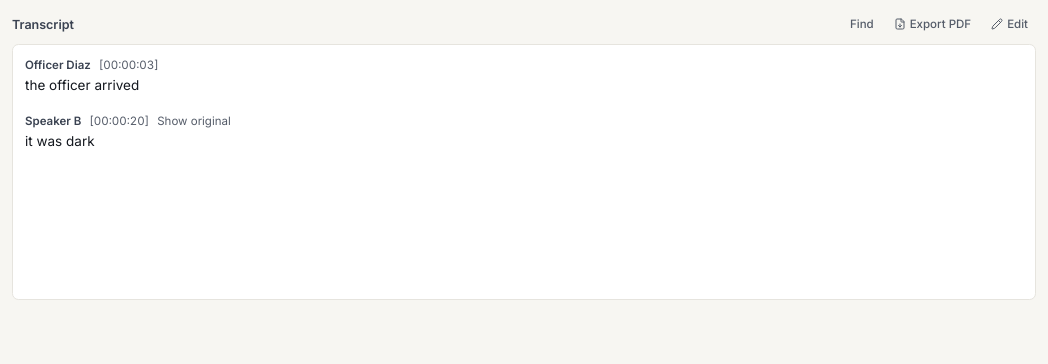
Test case: paragraph editor › a conflict refreshes and shows their version, keeping the typed text
The width and height of the screenshot is (1048, 364).
Step 1. Click the button with aria-label "Edit transcript" → coordinates (1010, 24), box [983,12,1036,36]
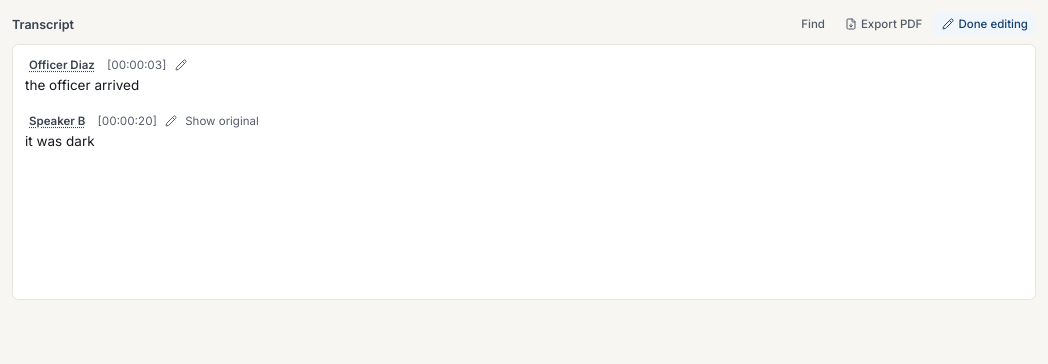
Step 2. Click the button named "Edit paragraph" → coordinates (181, 65), box [175,59,187,71]
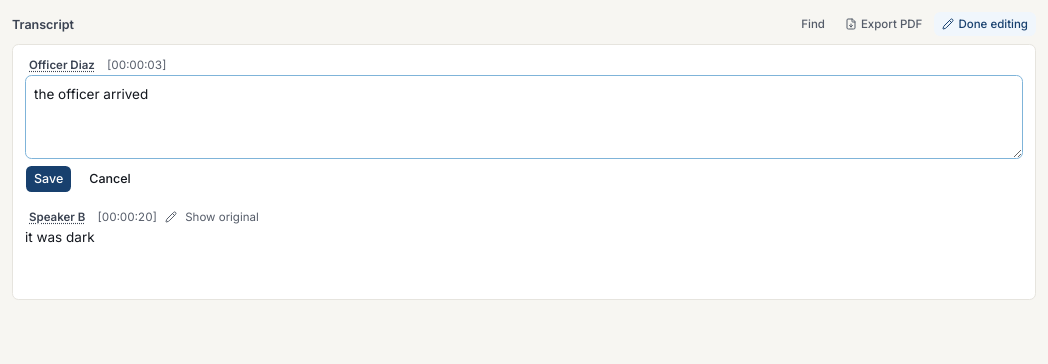
Step 3. Replace the text in the text box named "Paragraph text" with "changed" → coordinates (524, 117), box [25,75,1023,159]
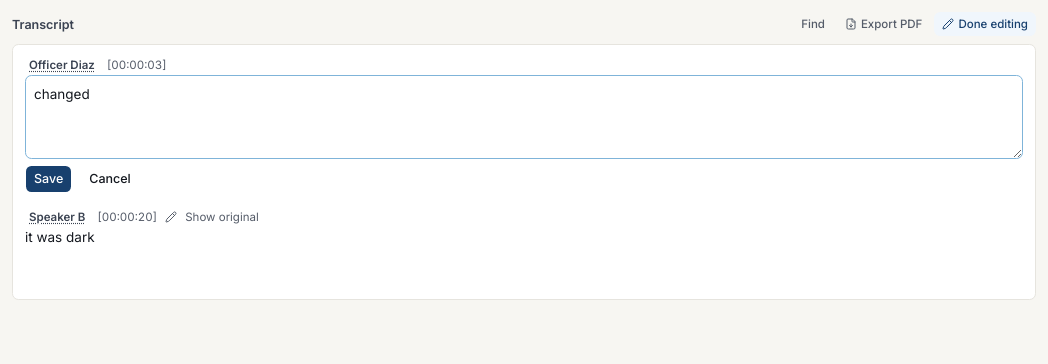
Step 4. Click the button "Save" → coordinates (49, 179), box [25,165,72,193]
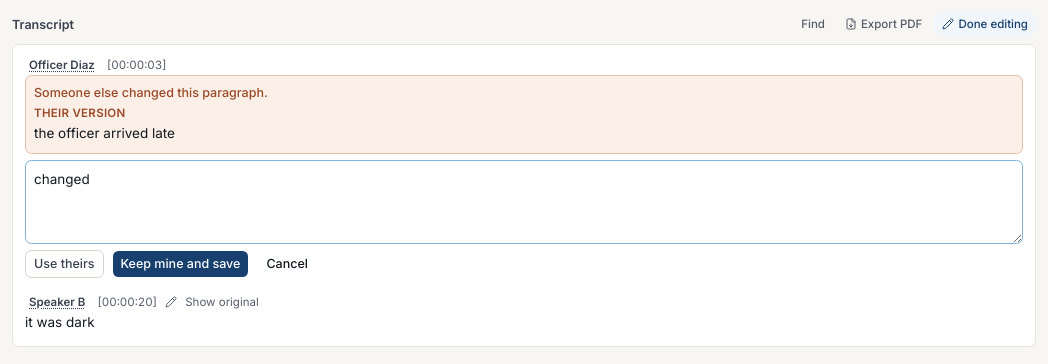
Expected: the text "Someone else changed this paragraph." is shown, [34,85,268,100]
Expected: the text "Their version" is shown, [34,106,126,120]
Expected: the text "the officer arrived late" is shown, [34,125,175,141]
